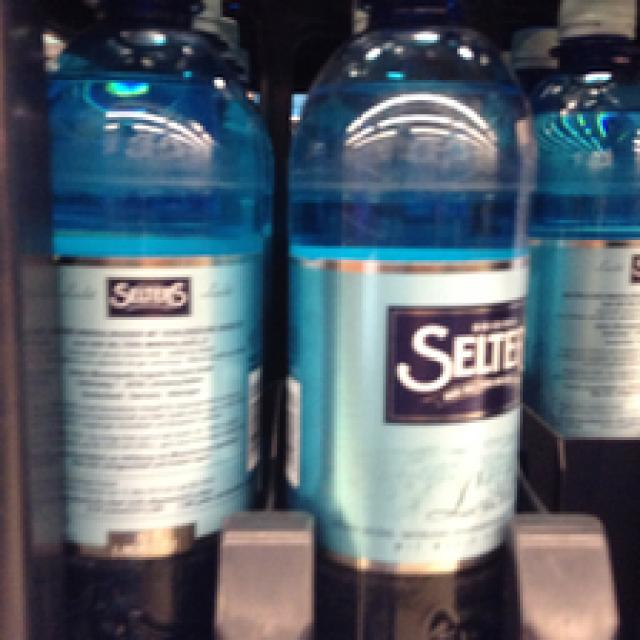groceries: (283, 3, 526, 637), (43, 3, 274, 637), (526, 0, 637, 446)
